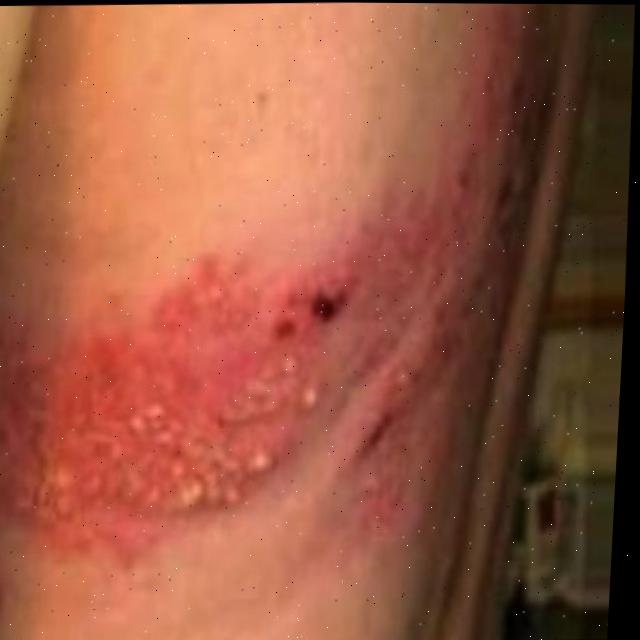Shingles: (0, 272, 340, 563)
